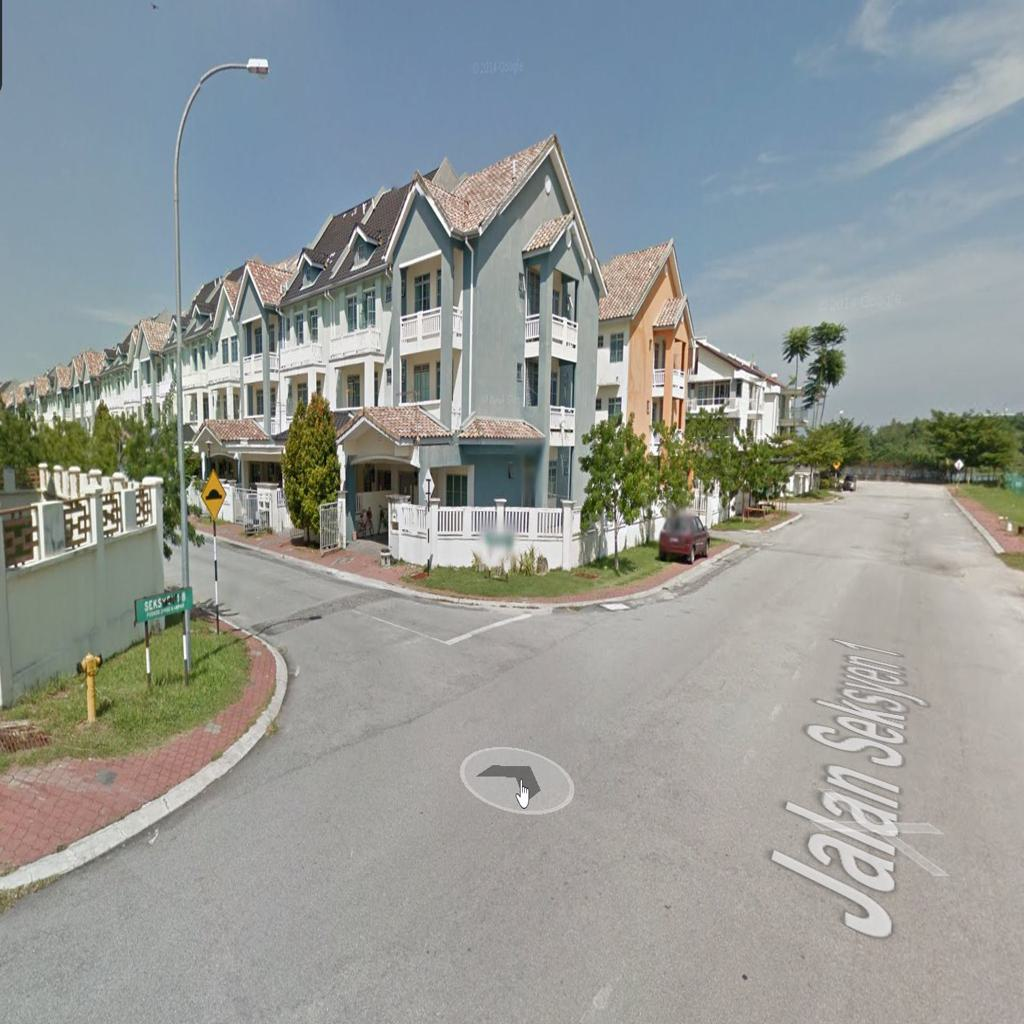Junction: (197, 542, 589, 777)
